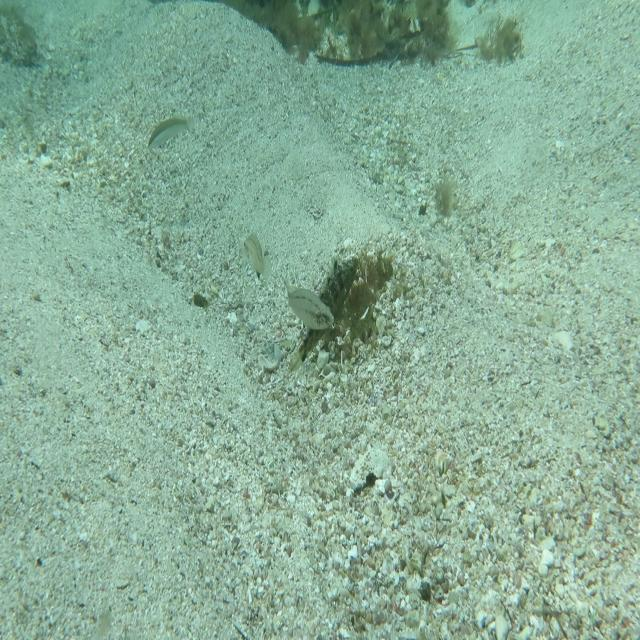Coris_julis_female: (145, 109, 198, 154)
ROLL: (287, 244, 363, 376)
female: (282, 260, 336, 332)
nest: (304, 222, 401, 338)
other_fish: (238, 229, 276, 284)
